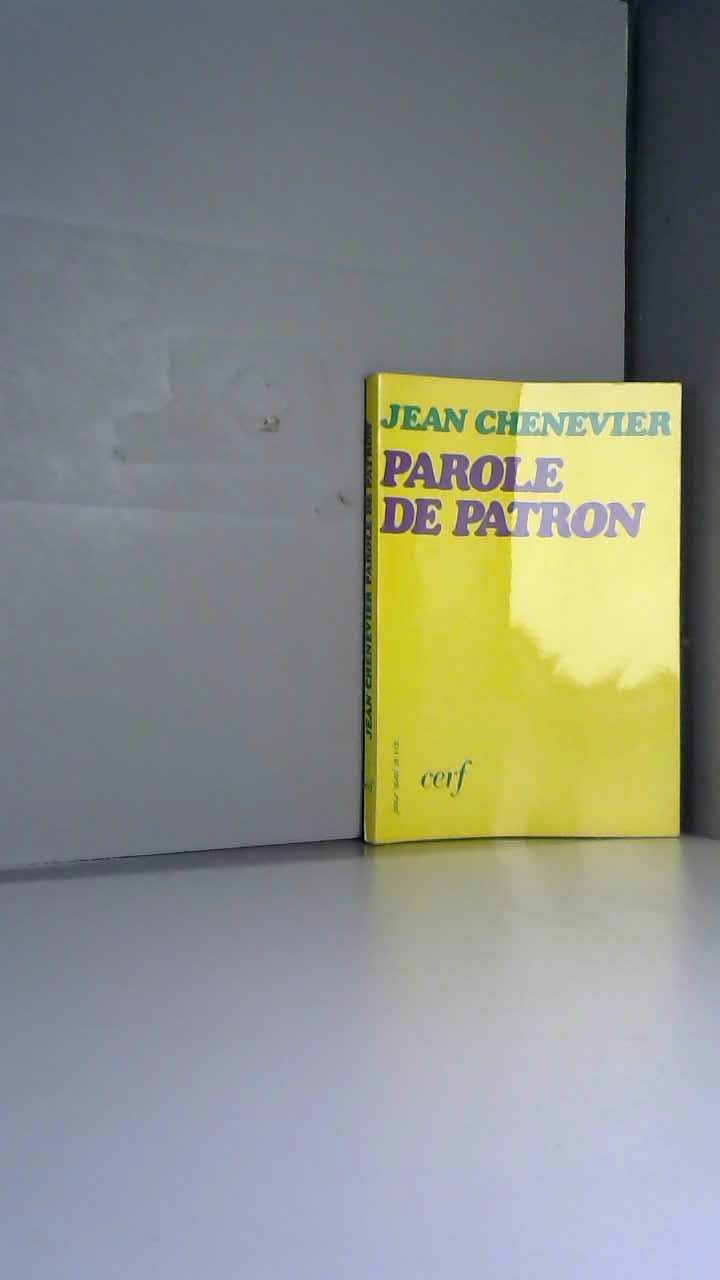book: (330, 350, 718, 891)
